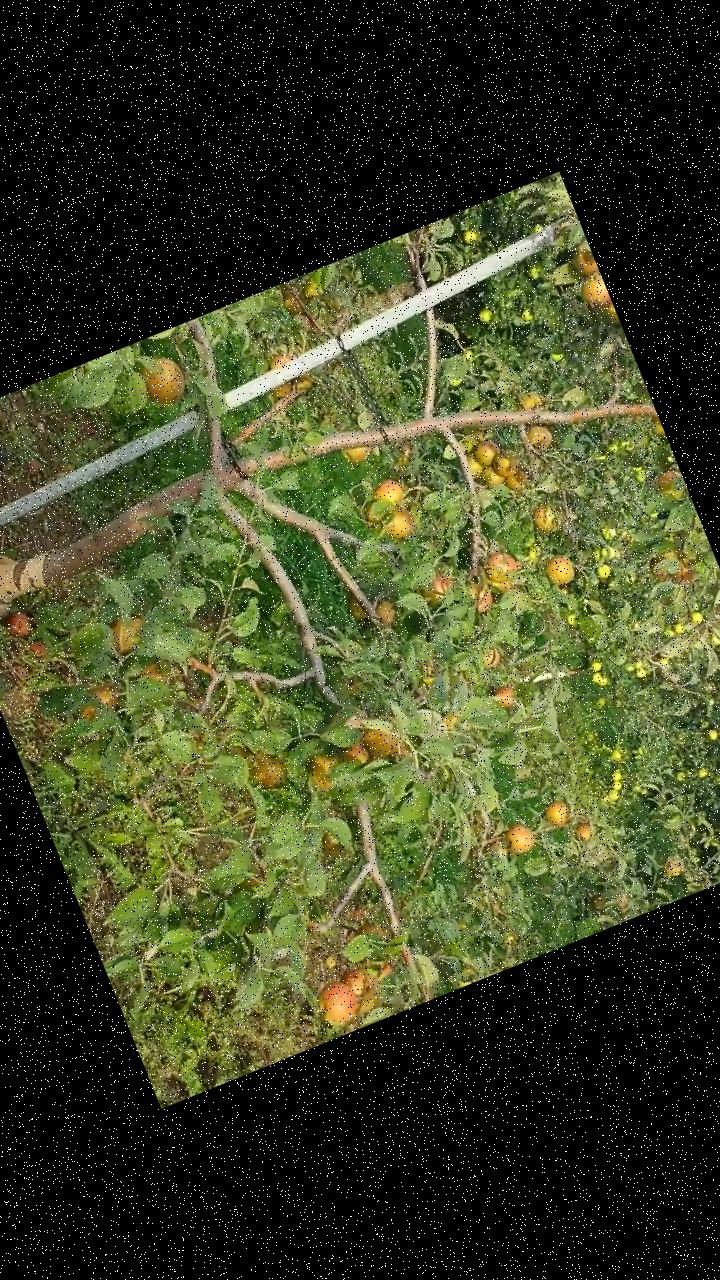Apple: (134, 350, 194, 410), (103, 610, 153, 660), (314, 978, 365, 1027), (72, 680, 122, 724), (302, 750, 348, 796), (245, 748, 293, 792), (361, 716, 403, 760), (662, 549, 704, 591), (481, 548, 523, 590), (576, 272, 614, 318), (502, 819, 542, 860), (418, 571, 461, 609), (540, 551, 578, 593), (132, 656, 172, 694), (368, 476, 408, 512), (380, 509, 418, 545), (346, 986, 382, 1022), (482, 566, 517, 602), (362, 951, 397, 986), (510, 388, 547, 421), (642, 550, 674, 588), (524, 420, 558, 455), (318, 828, 351, 864), (464, 578, 496, 614), (352, 916, 388, 948), (342, 964, 374, 1000), (339, 589, 370, 626), (470, 438, 504, 469), (531, 501, 561, 536), (476, 462, 508, 494), (488, 448, 522, 478), (501, 464, 532, 496), (338, 742, 370, 772), (570, 245, 598, 279), (342, 441, 377, 468), (266, 379, 300, 406), (652, 466, 684, 494), (544, 798, 573, 828), (360, 500, 389, 530), (374, 598, 398, 632), (491, 684, 520, 712), (298, 276, 327, 302), (480, 646, 506, 674), (292, 309, 318, 336), (281, 292, 305, 321), (660, 854, 686, 880), (598, 299, 620, 329), (463, 451, 484, 481), (290, 369, 314, 393), (267, 352, 295, 372), (648, 415, 666, 444), (576, 824, 596, 844), (470, 428, 489, 448)
